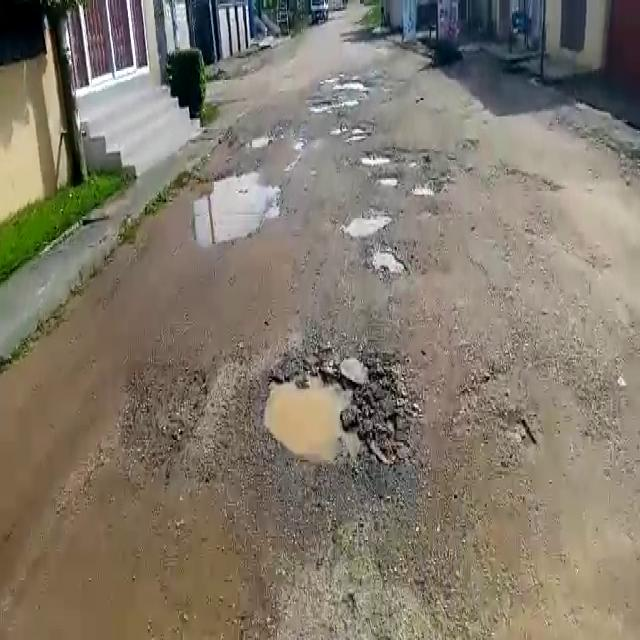Pothole: (255, 354, 391, 474), (192, 167, 285, 245), (360, 240, 416, 278), (336, 209, 391, 240), (332, 121, 375, 139), (359, 148, 402, 164), (242, 131, 271, 150), (410, 184, 434, 201), (373, 172, 400, 185)
